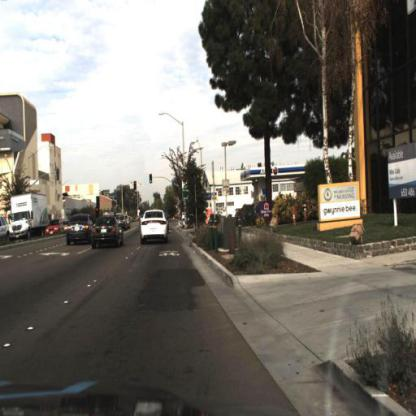car: (138, 206, 172, 247), (90, 214, 124, 250), (64, 208, 91, 248), (44, 216, 66, 238), (219, 199, 236, 223)
trafficLight-Green: (148, 171, 153, 188)
trafficLight-Red: (131, 177, 138, 194), (121, 185, 128, 199)
truck: (8, 193, 48, 234)
